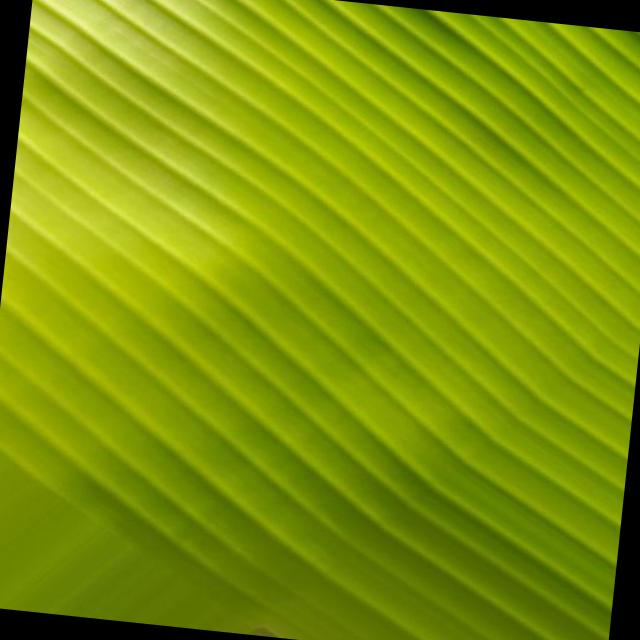Banana_Healthy: (114, 48, 615, 506)
